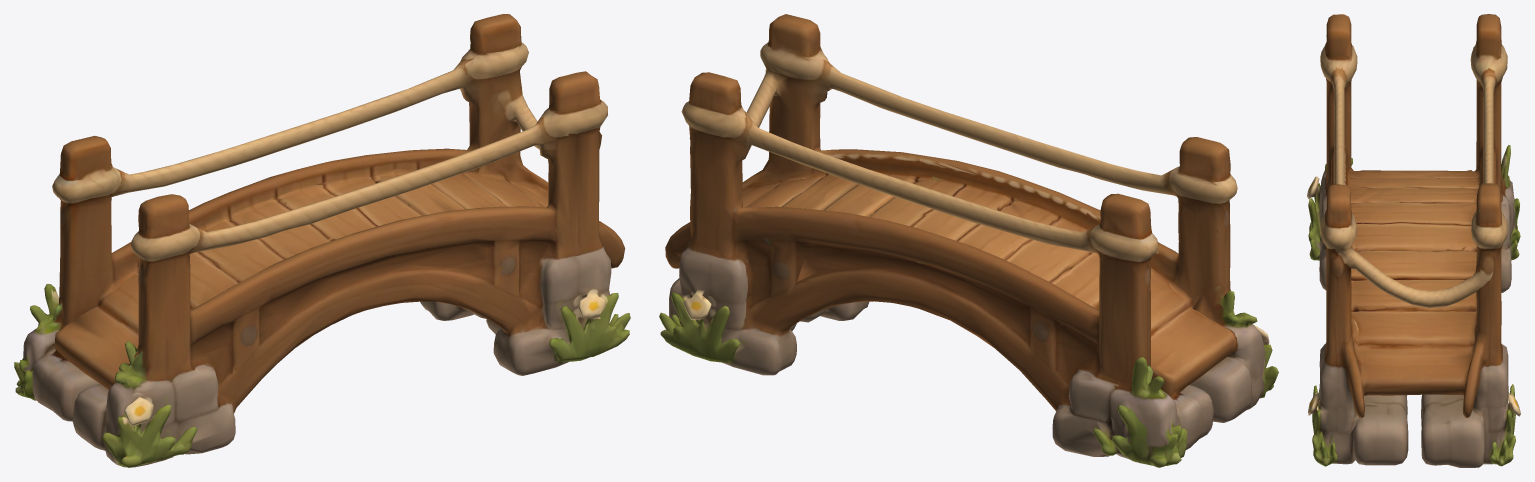
3 renders of one model, left to right at view 1: azimuth 30°, elevation 25°; view 2: azimuth 150°, elevation 25°; view 3: azimuth 270°, elevation 25°, orthographic. The views are drawn at different scales.
Visible parts, largest first — view 1: wooden-bridge; view 2: wooden-bridge; view 3: wooden-bridge.
Boxes of the visible parts, x1=… form: wooden-bridge: x1=14, y1=14, x2=630, y2=467; wooden-bridge: x1=659, y1=14, x2=1278, y2=467; wooden-bridge: x1=1307, y1=14, x2=1520, y2=467.
Bounding box in the file's own units: 5.01 × 2.5 × 1.8.
1 material, 1 textured.
